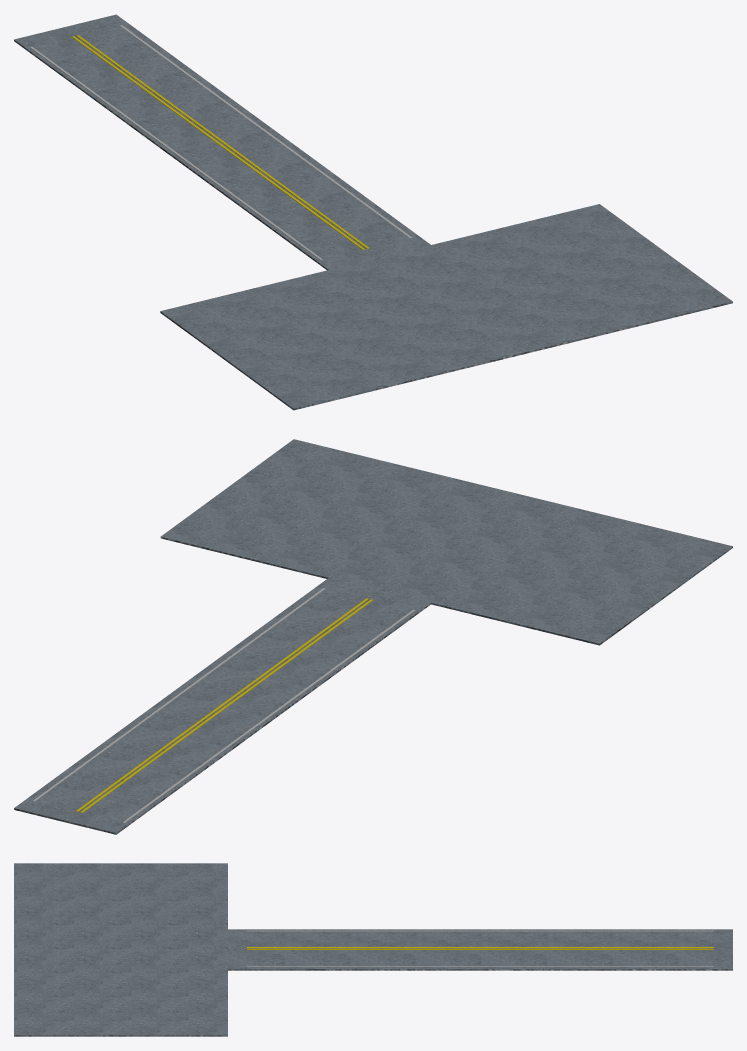
File: Road_ParkingLot.fbx
3 views of the same model, one above another, from view 1: azimuth 30°, elevation 25°; view 2: azimuth 150°, elevation 25°; view 3: azimuth 270°, elevation 25° (orthographic). The views are drawn at different scales.
Visible parts, largest first — view 1: Road_ParkingLot_Test; view 2: Road_ParkingLot_Test; view 3: Road_ParkingLot_Test.
Boxes of the visible parts, left/top/right/bottom form: Road_ParkingLot_Test: left=14, top=14, right=732, bottom=410; Road_ParkingLot_Test: left=14, top=439, right=732, bottom=834; Road_ParkingLot_Test: left=14, top=863, right=732, bottom=1036.
Bounding box in the file's own units: 3592 × 16.58 × 6348.
